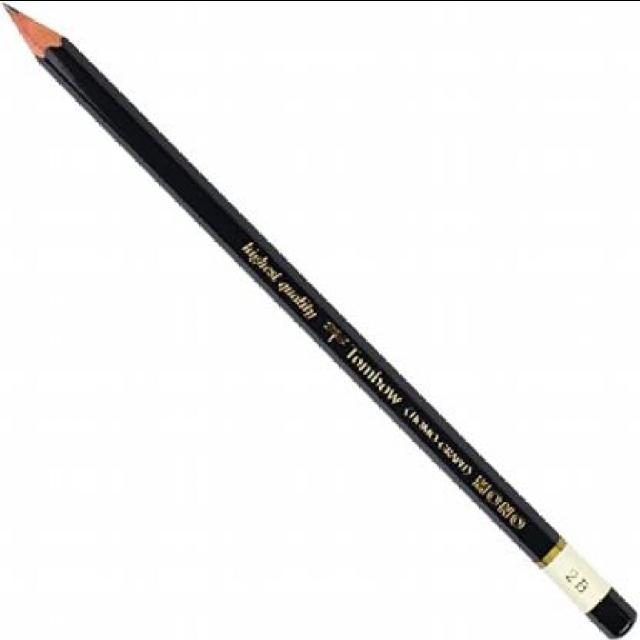Pencil: (0, 0, 113, 111)
